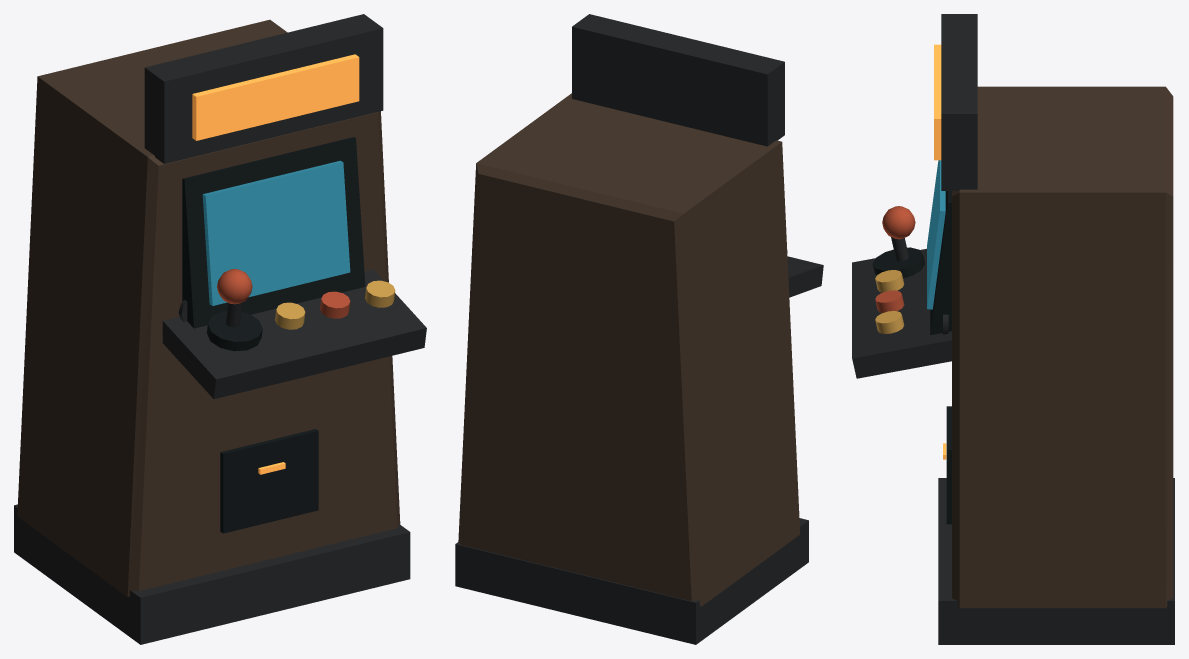
The model's file is arcade-cabinet.glb.
3 views of the same model, side by side, from view 1: azimuth 30°, elevation 25°; view 2: azimuth 150°, elevation 25°; view 3: azimuth 270°, elevation 25° (orthographic). The views are drawn at different scales.
Parts seen in each view (by area): view 1: TaperedCabinetBody, Base, MarqueeHousing, Screen, ControlDeck, ScreenBezel, BlankMarquee, CoinDoor, JoystickBase, JoystickKnob, ActionButton1, ActionButton3 (+1 smaller); view 2: TaperedCabinetBody, MarqueeHousing, Base, ControlDeck; view 3: TaperedCabinetBody, Base, ControlDeck, MarqueeHousing, ScreenBezel, Screen, JoystickBase, BlankMarquee, JoystickKnob, CoinDoor, ActionButton3, ActionButton2 (+1 smaller).
Boxes of the visible parts, box(x1,y1,x2,y2) form: TaperedCabinetBody: box(17, 19, 400, 596); Base: box(14, 504, 410, 644); MarqueeHousing: box(144, 14, 383, 163); Screen: box(202, 160, 350, 305); ControlDeck: box(162, 269, 426, 398); ScreenBezel: box(182, 137, 365, 328); BlankMarquee: box(192, 54, 359, 140); CoinDoor: box(220, 429, 318, 533); JoystickBase: box(206, 311, 262, 351); JoystickKnob: box(217, 269, 252, 304); ActionButton1: box(275, 302, 305, 329); ActionButton3: box(365, 280, 395, 307); TaperedCabinetBody: box(458, 93, 800, 606); MarqueeHousing: box(572, 14, 784, 146); Base: box(455, 518, 808, 644); ControlDeck: box(787, 256, 823, 297); TaperedCabinetBody: box(952, 86, 1173, 608); Base: box(938, 478, 1174, 644); ControlDeck: box(852, 248, 951, 378); MarqueeHousing: box(941, 14, 977, 190); ScreenBezel: box(930, 191, 951, 335); Screen: box(927, 160, 945, 309); JoystickBase: box(872, 247, 924, 278); BlankMarquee: box(934, 44, 941, 160); JoystickKnob: box(882, 206, 915, 239); CoinDoor: box(946, 406, 951, 524); ActionButton3: box(875, 311, 904, 333); ActionButton2: box(875, 290, 904, 312).
Bounding box in the file's own units: 0.9712 × 1.89 × 1.06.
